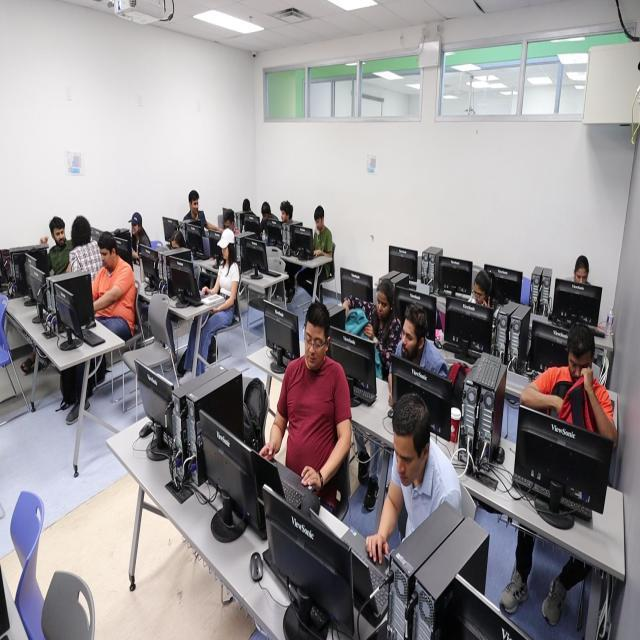Looking away: (393, 430, 419, 487), (304, 320, 324, 370), (568, 350, 590, 382), (402, 318, 416, 356), (376, 288, 390, 322), (99, 247, 111, 269), (474, 280, 484, 306), (54, 226, 66, 247), (574, 268, 588, 284), (220, 244, 230, 260), (131, 220, 140, 236), (191, 198, 199, 214)
